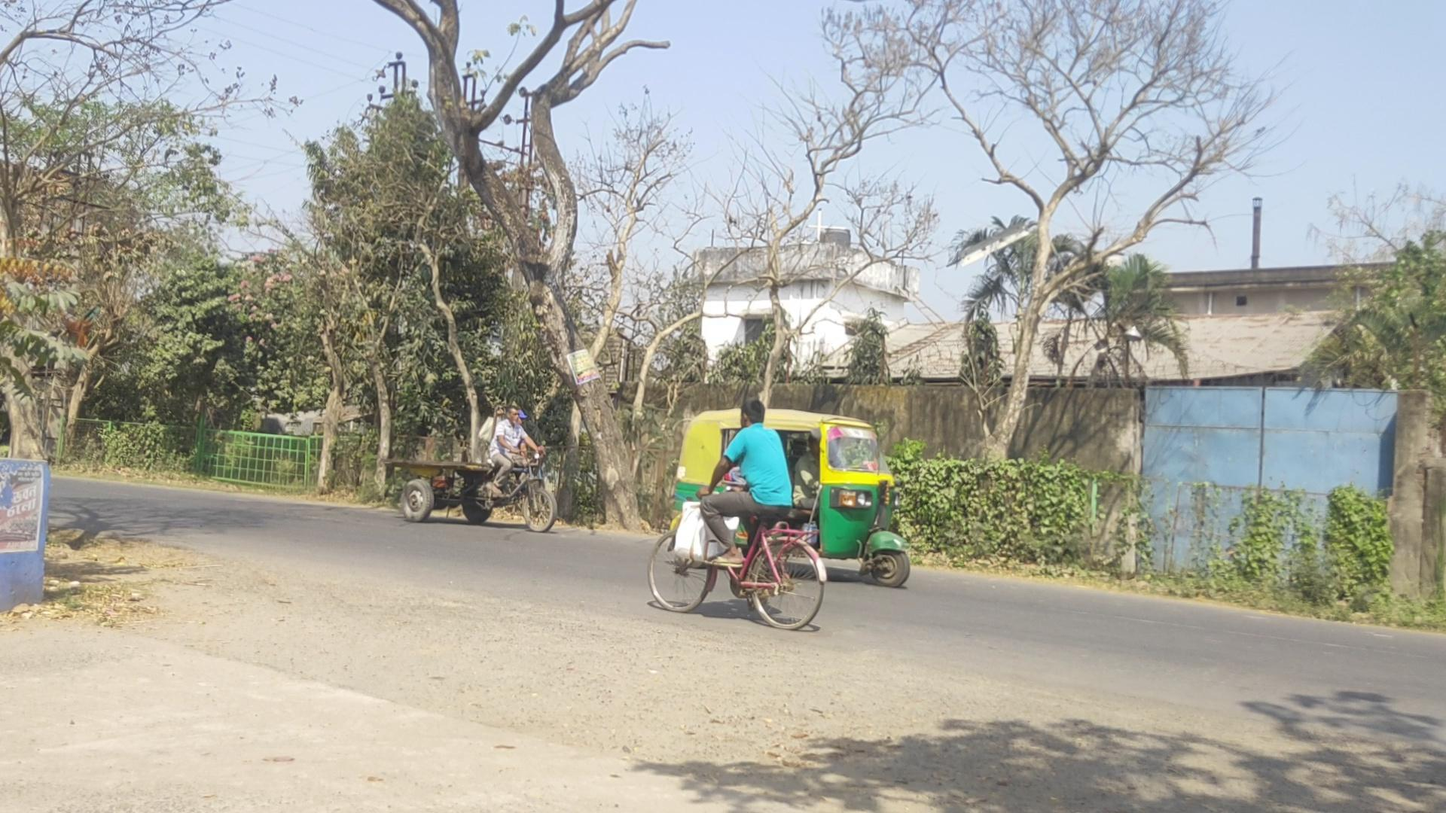Auto: (668, 408, 910, 586)
bike: (645, 397, 826, 630)
